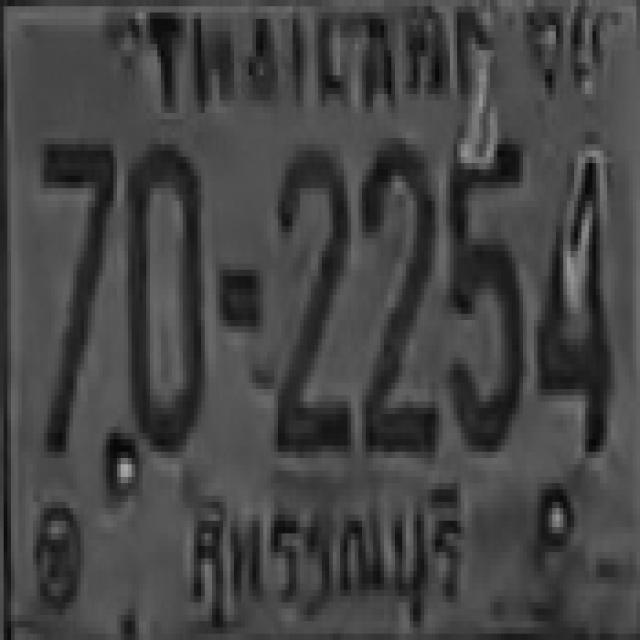0: (124, 138, 201, 446)
2: (272, 141, 350, 449), (358, 138, 432, 452)
4: (534, 144, 607, 446)
5: (444, 132, 521, 445)
7: (41, 138, 114, 452), (41, 138, 114, 364)
SuphanBuri: (176, 460, 466, 627)
